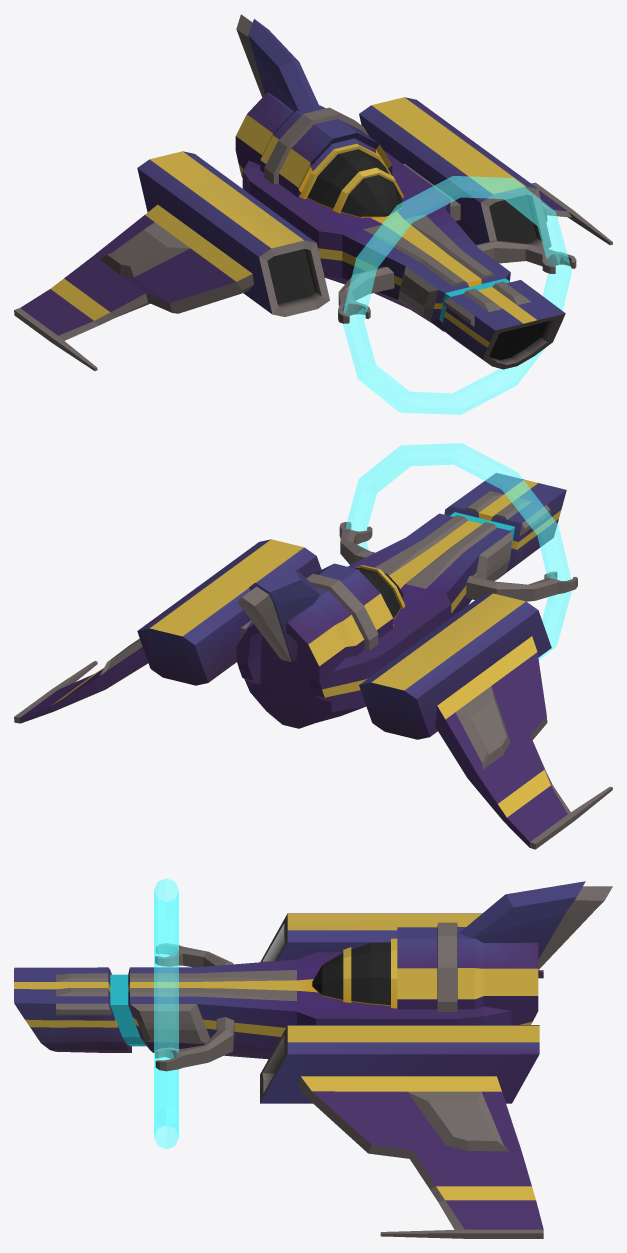
Rendered from electricship1.fbx.
3 views of the same model, one above another, from view 1: azimuth 30°, elevation 25°; view 2: azimuth 150°, elevation 25°; view 3: azimuth 270°, elevation 25° (orthographic). The views are drawn at different scales.
Visible parts, largest first — view 1: SmallElectricShip, SmallElectric.Ring; view 2: SmallElectricShip, SmallElectric.Ring; view 3: SmallElectricShip, SmallElectric.Ring.
Boxes of the visible parts, x1,y1,x2,y2 form: SmallElectricShip: [14, 14, 612, 370]; SmallElectric.Ring: [343, 176, 571, 414]; SmallElectricShip: [14, 473, 612, 849]; SmallElectric.Ring: [345, 443, 571, 659]; SmallElectricShip: [14, 881, 612, 1238]; SmallElectric.Ring: [154, 878, 178, 1149].
Bounding box in the file's own units: 829 × 376 × 797.
